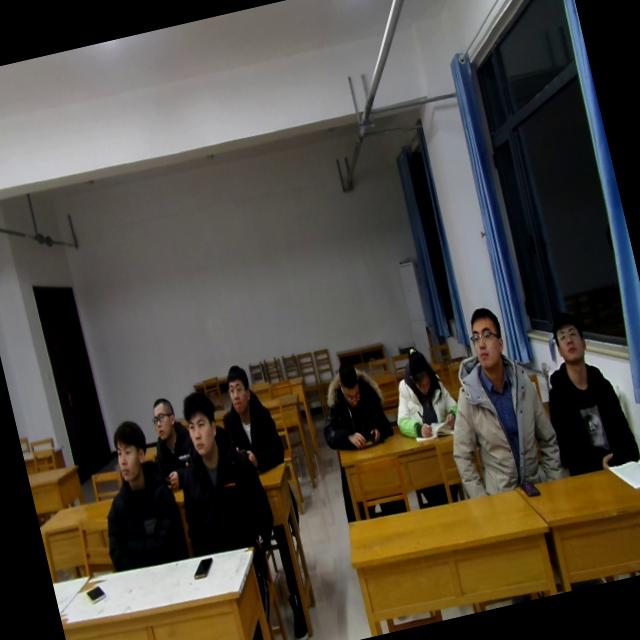down: (328, 352, 368, 414), (400, 342, 440, 399)
lookup: (102, 409, 154, 486), (460, 302, 512, 378), (174, 386, 226, 461), (544, 306, 593, 370), (217, 359, 260, 421), (145, 392, 180, 443)
sit: (422, 294, 564, 498), (154, 378, 280, 558), (527, 295, 640, 477), (78, 413, 190, 575), (206, 354, 288, 480), (309, 347, 400, 451), (380, 335, 462, 443), (142, 386, 202, 482)
